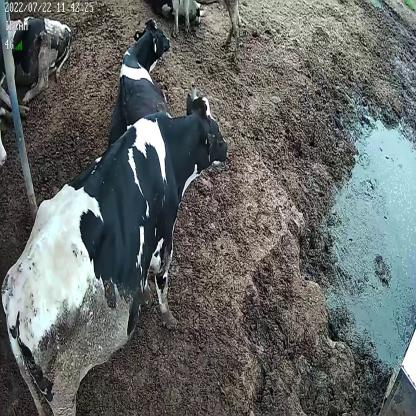cow: (3, 87, 228, 416), (118, 18, 170, 120)
